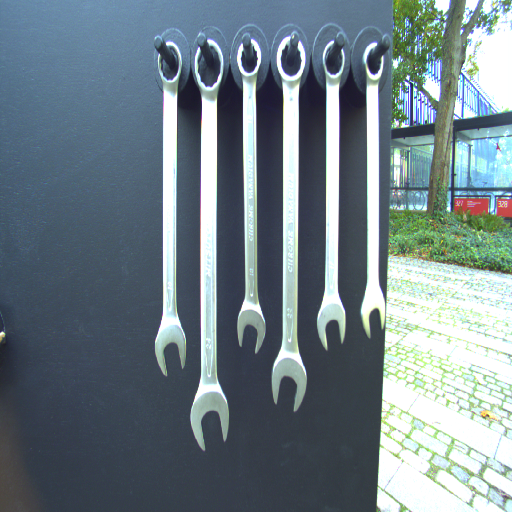bottom: (186, 382, 232, 452), (266, 349, 309, 414), (150, 320, 191, 379), (236, 298, 269, 355), (358, 285, 391, 340), (314, 299, 349, 350)
top: (192, 35, 226, 94), (273, 32, 310, 84), (319, 37, 350, 85), (155, 39, 185, 86), (235, 34, 265, 78), (360, 39, 390, 82)
